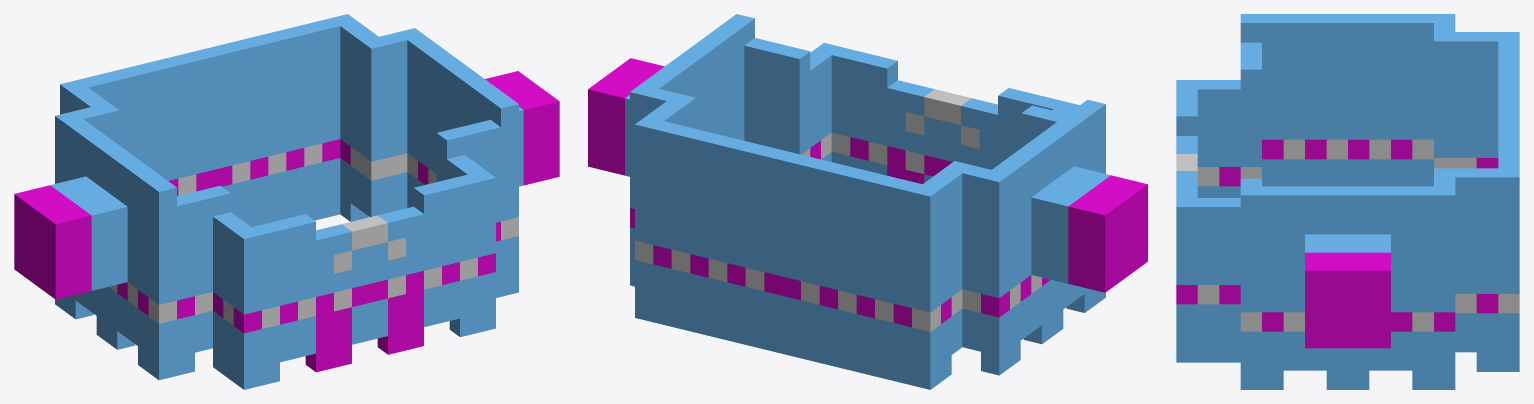
File: captain aave.vox-2.fbx
The picture shows the model from 3 angles, left to right: view 1: azimuth 30°, elevation 25°; view 2: azimuth 150°, elevation 25°; view 3: azimuth 270°, elevation 25°; orthographic projection. The views are drawn at different scales.
Visible parts, largest first — view 1: captain aave.vox-2; view 2: captain aave.vox-2; view 3: captain aave.vox-2.
Boxes of the visible parts, x1=… form: captain aave.vox-2: x1=14, y1=14, x2=559, y2=389; captain aave.vox-2: x1=588, y1=14, x2=1147, y2=389; captain aave.vox-2: x1=1176, y1=14, x2=1519, y2=389.
Bounding box in the file's own units: 2.8 × 1 × 1.6.
Materials: 1 (1 with a texture image).
